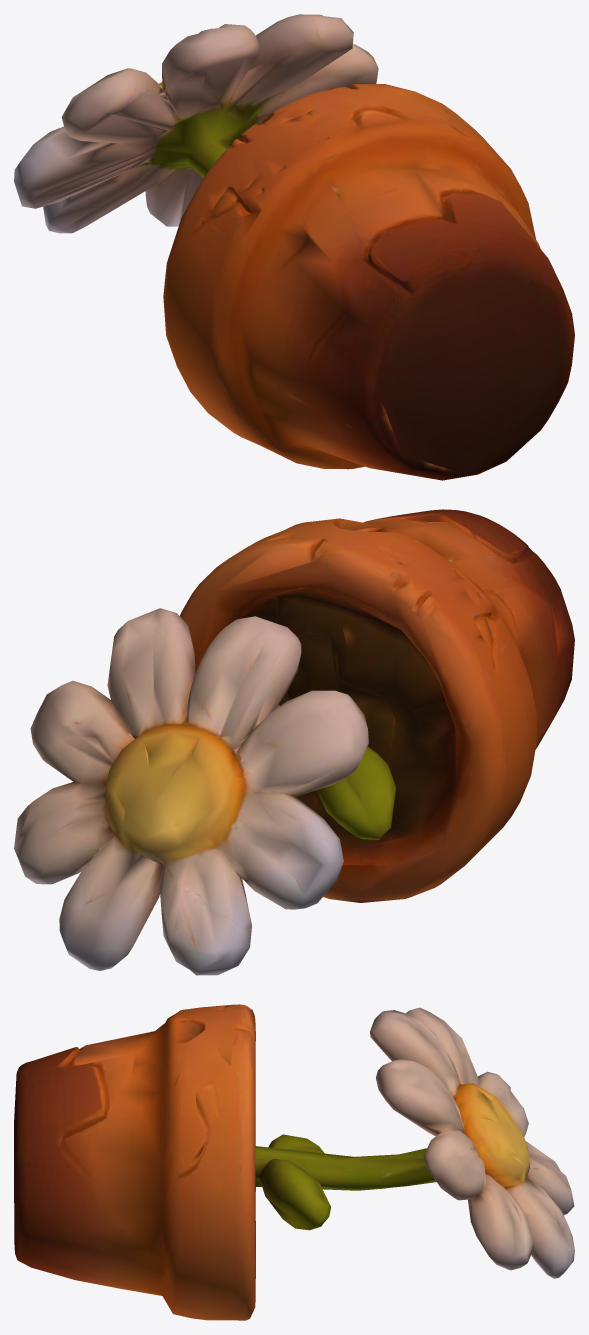
3 renders of one model, top to bottom at view 1: azimuth 30°, elevation 25°; view 2: azimuth 150°, elevation 25°; view 3: azimuth 270°, elevation 25°, orthographic. The views are drawn at different scales.
Parts seen in each view (by area): view 1: material; view 2: material; view 3: material.
Boxes of the visible parts, left/top/right/bottom form: material: left=14, top=14, right=574, bottom=480; material: left=14, top=509, right=574, bottom=975; material: left=14, top=1004, right=574, bottom=1320.
Bounding box in the file's own units: 0.5679 × 0.565 × 1.
1 material, 1 textured.
